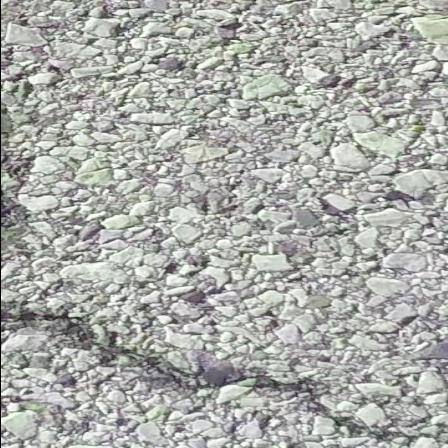crack: (0, 291, 448, 448)
